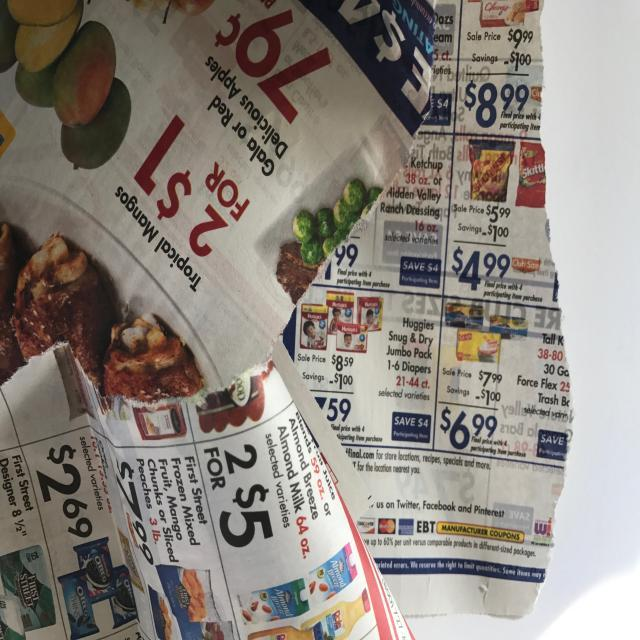paper: (0, 1, 575, 640)
